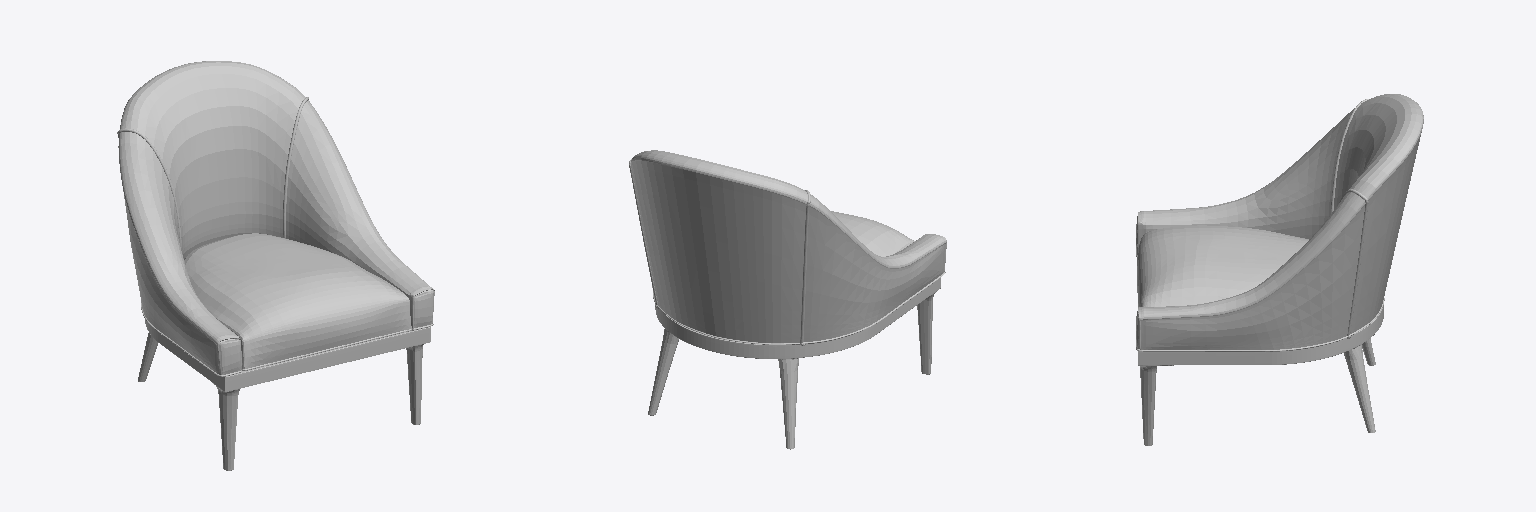
Rendered from uploads_files_2477944_chair-corona.obj.
3 views of the same model, side by side, from view 1: azimuth 30°, elevation 25°; view 2: azimuth 150°, elevation 25°; view 3: azimuth 270°, elevation 25° (orthographic).
Parts seen in each view (by area): view 1: chair; view 2: chair; view 3: chair.
Boxes of the visible parts, box(x1,y1,x2,y2) form: chair: box(117, 61, 434, 470); chair: box(629, 150, 946, 449); chair: box(1136, 94, 1423, 445).
Size of the model in its own units: 728 by 900 by 826.